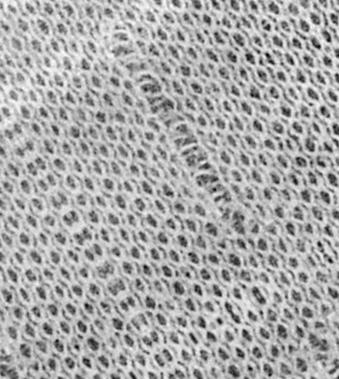slub: (98, 21, 241, 228)
